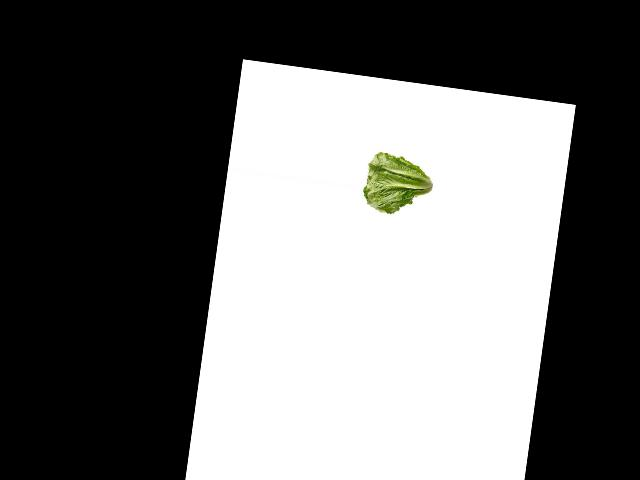lettuce: (359, 152, 439, 221)
